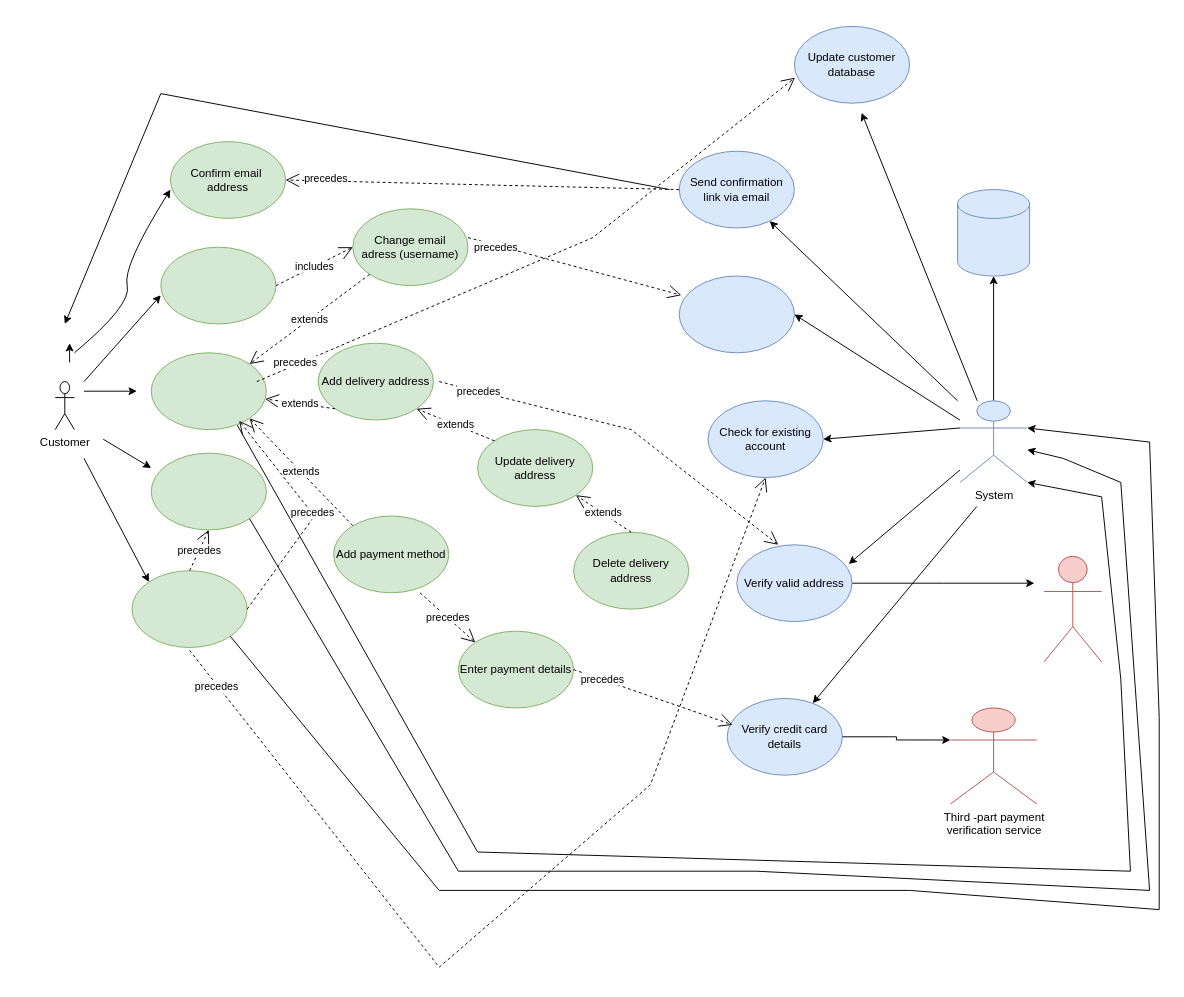
The diagram is 1184 pixels wide and 997 high, and some of its shapes have lost their labels. Here are the shapes that lost their labels. From the top down, the centre of each, then its label:
point (993, 232): Customer database
point (218, 285): register
point (736, 314): Verify email is unique
point (208, 391): Update account details
point (208, 491): View account
point (189, 609): Login
point (1072, 608): MAP API
